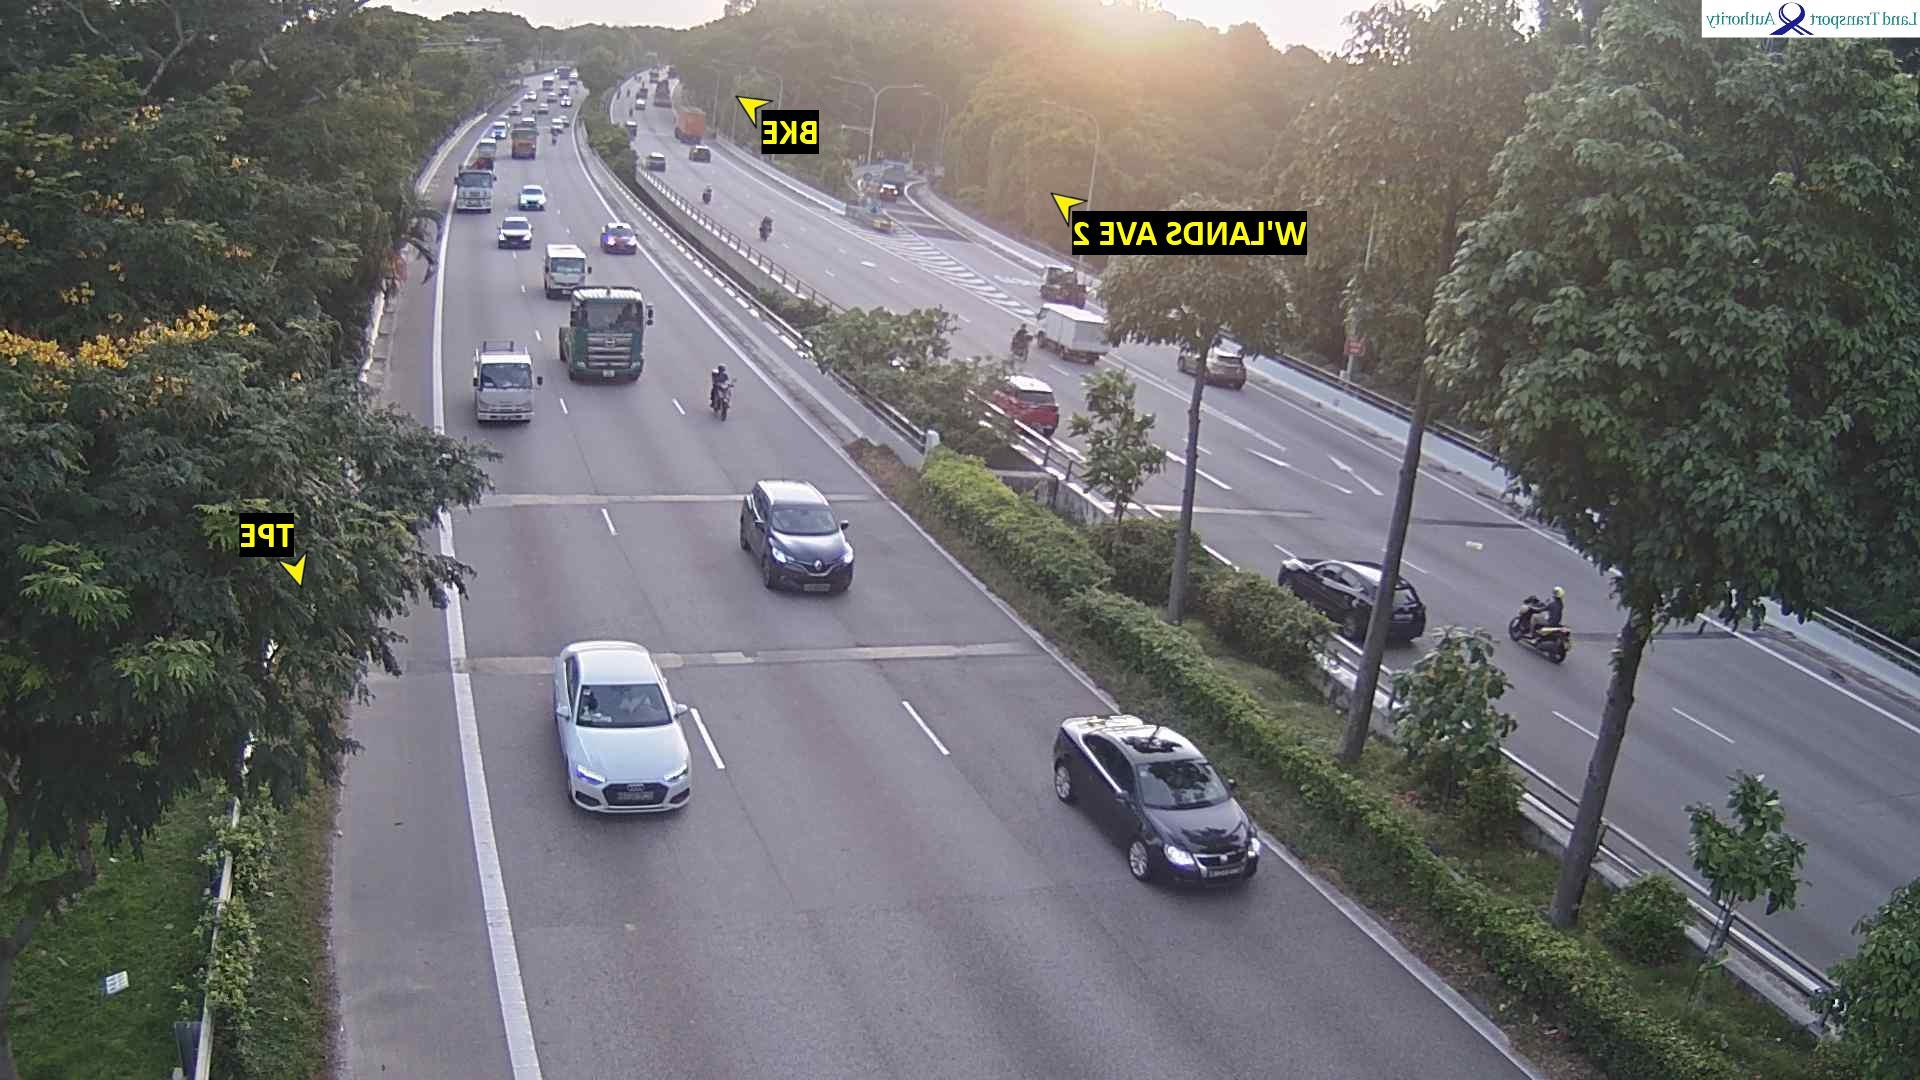cars: (1054, 711, 1262, 889), (553, 638, 694, 815), (740, 477, 856, 593), (1278, 555, 1428, 644), (560, 284, 655, 382), (472, 338, 543, 425), (992, 373, 1062, 436), (1178, 332, 1247, 389), (545, 243, 593, 299), (455, 169, 497, 212), (601, 220, 640, 253), (498, 214, 534, 248), (512, 125, 539, 158), (475, 137, 498, 167), (520, 185, 549, 208), (654, 82, 673, 105), (491, 117, 510, 138), (690, 144, 712, 162), (880, 181, 899, 200), (647, 152, 667, 170), (550, 115, 568, 132), (626, 119, 640, 138), (636, 94, 649, 109)
motorcycle: (1509, 593, 1573, 665), (709, 378, 737, 421), (700, 182, 712, 206), (758, 219, 773, 237)
trucks: (1036, 302, 1112, 363), (1040, 264, 1089, 307)
